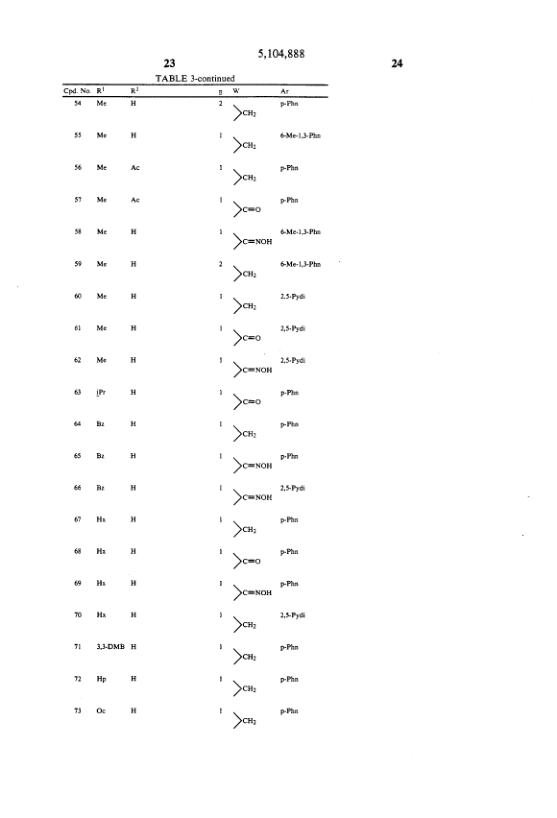compound-structure: (227, 358, 274, 384), (229, 454, 274, 478), (232, 486, 275, 511), (231, 580, 274, 602), (227, 166, 261, 192), (227, 201, 263, 225), (227, 392, 266, 414), (227, 264, 257, 292), (230, 517, 259, 543), (230, 644, 260, 669), (230, 234, 270, 252), (230, 550, 262, 572), (232, 325, 261, 349), (227, 612, 258, 634), (231, 136, 259, 160), (229, 423, 259, 445), (229, 104, 257, 127), (227, 299, 256, 318), (231, 678, 257, 698), (233, 710, 258, 729)
